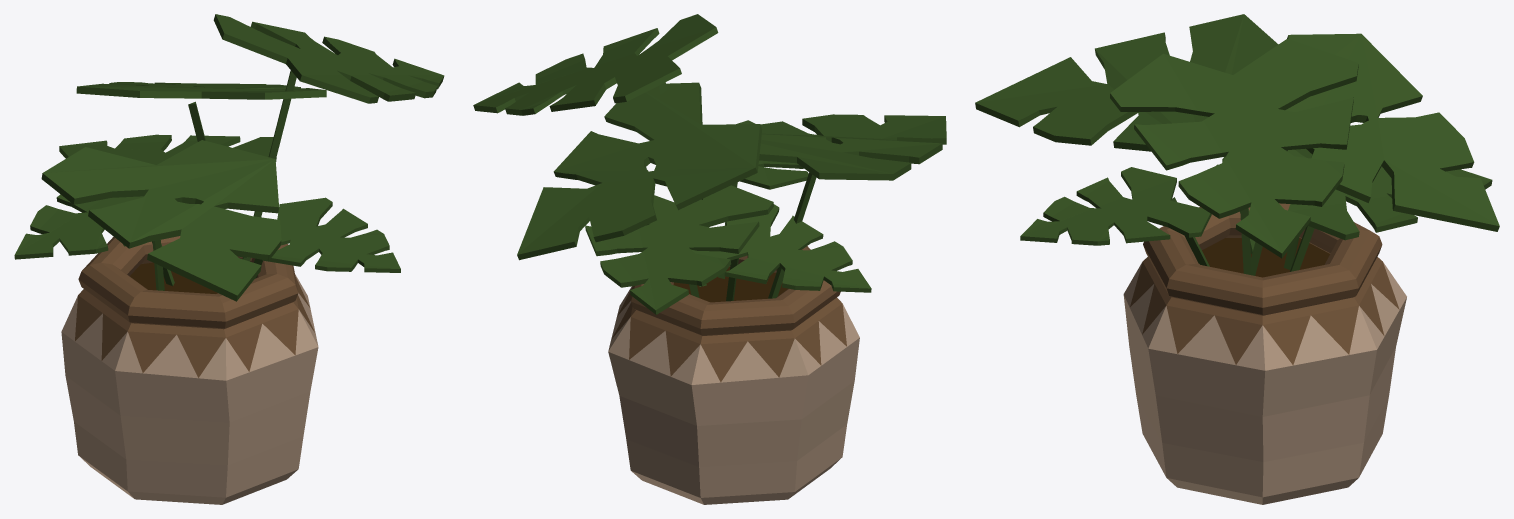
The model's file is Monstera_plant.fbx.
The picture shows the model from 3 angles, left to right: view 1: azimuth 30°, elevation 25°; view 2: azimuth 150°, elevation 25°; view 3: azimuth 270°, elevation 25°; orthographic projection. The views are drawn at different scales.
Visible parts, largest first — view 1: Torus, Cylinder.010, Torus.001, Cylinder.007, Cylinder.005, Cylinder.011, Cylinder.008, Cylinder.009, Plane.001, Cylinder.003; view 2: Torus, Cylinder.008, Cylinder.009, Cylinder.010, Cylinder.007, Cylinder.011, Torus.001, Plane.001, Cylinder.005, Cylinder.004; view 3: Torus, Cylinder.007, Cylinder.008, Cylinder.010, Torus.001, Cylinder.005, Cylinder.009, Plane.001.
Boxes of the visible parts, left/top/right/bottom form: Torus: left=61, top=274, right=318, bottom=504; Cylinder.010: left=41, top=140, right=281, bottom=301; Torus.001: left=78, top=236, right=298, bottom=329; Cylinder.007: left=213, top=14, right=444, bottom=103; Cylinder.005: left=235, top=197, right=400, bottom=272; Cylinder.011: left=14, top=194, right=143, bottom=259; Cylinder.008: left=76, top=82, right=326, bottom=99; Cylinder.009: left=59, top=134, right=276, bottom=164; Plane.001: left=130, top=262, right=217, bottom=293; Cylinder.003: left=242, top=70, right=296, bottom=261; Torus: left=608, top=286, right=859, bottom=504; Cylinder.008: left=517, top=82, right=762, bottom=260; Cylinder.009: left=585, top=185, right=773, bottom=314; Cylinder.010: left=759, top=114, right=946, bottom=180; Cylinder.007: left=473, top=14, right=718, bottom=115; Cylinder.011: left=691, top=204, right=871, bottom=292; Torus.001: left=631, top=246, right=840, bottom=335; Plane.001: left=673, top=267, right=787, bottom=302; Cylinder.005: left=736, top=120, right=808, bottom=189; Cylinder.004: left=768, top=172, right=816, bottom=298; Torus: left=1123, top=257, right=1406, bottom=504; Cylinder.007: left=1110, top=38, right=1358, bottom=258; Cylinder.008: left=1285, top=33, right=1499, bottom=231; Cylinder.010: left=975, top=14, right=1278, bottom=151; Torus.001: left=1143, top=203, right=1382, bottom=315; Cylinder.005: left=1020, top=167, right=1211, bottom=245; Cylinder.009: left=1287, top=148, right=1492, bottom=240; Plane.001: left=1202, top=238, right=1329, bottom=277.
Size of the model in its own units: 341 by 318 by 341.
